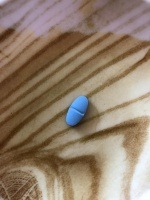Majezik: (65, 95, 89, 127)
